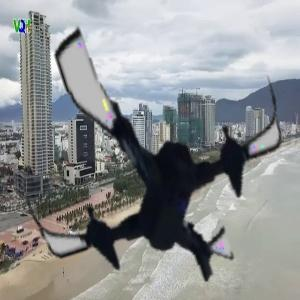drone: (6, 10, 297, 300)
